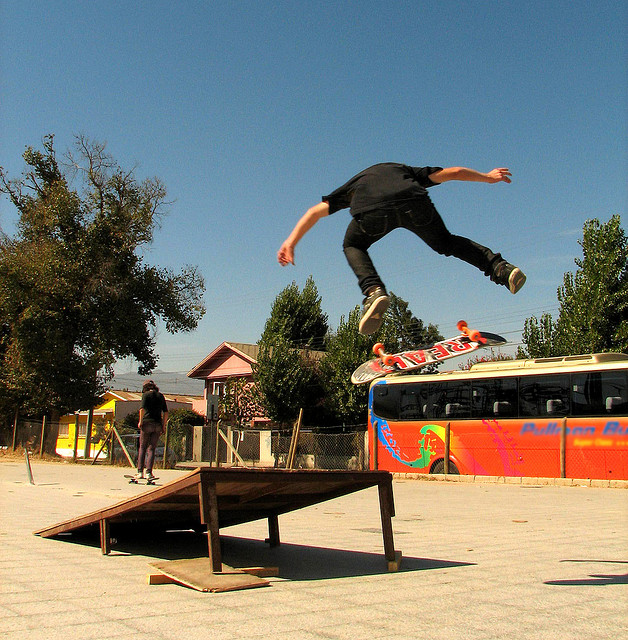Bus: (366, 356, 624, 480)
Person: (136, 381, 166, 481)
